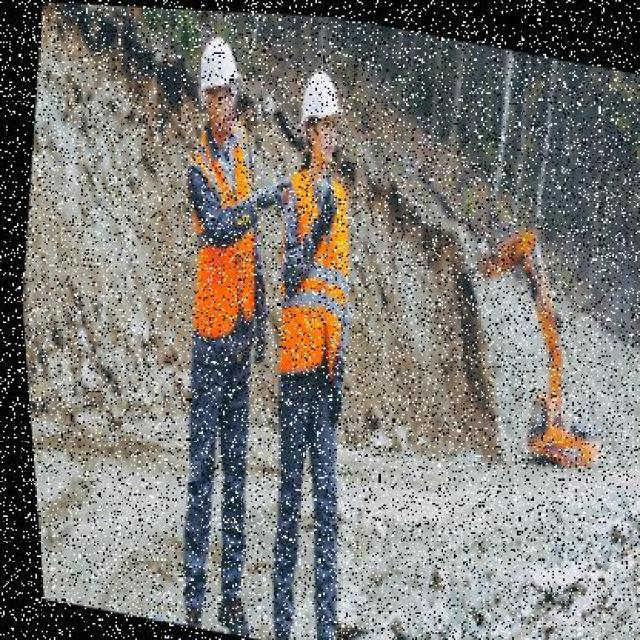helmet: (286, 60, 350, 140), (189, 30, 249, 106)
vest: (255, 154, 373, 396), (160, 117, 281, 349)
